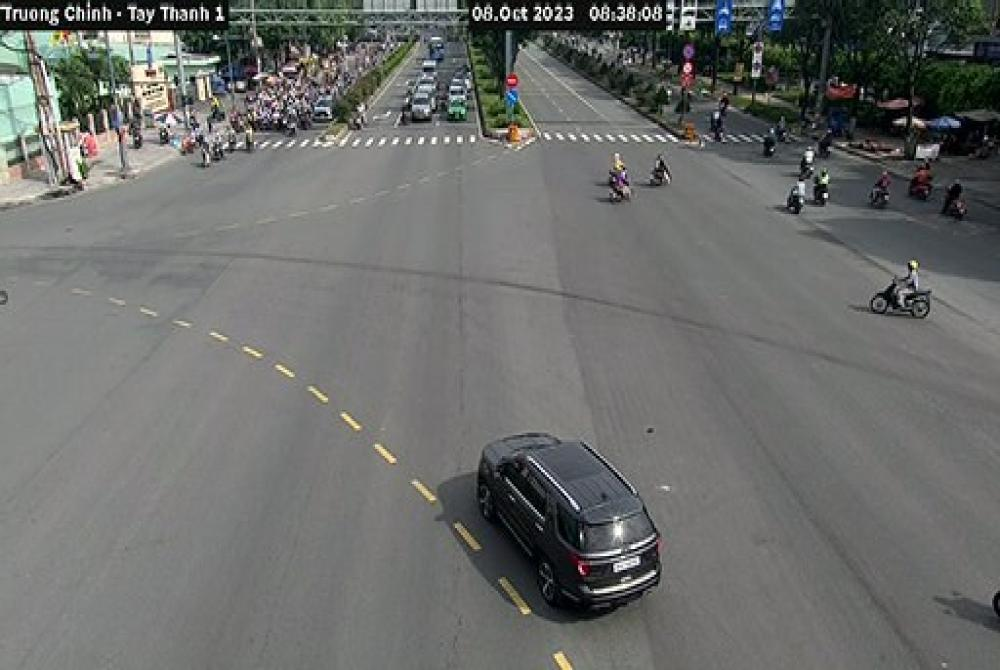car: (476, 433, 664, 614)
